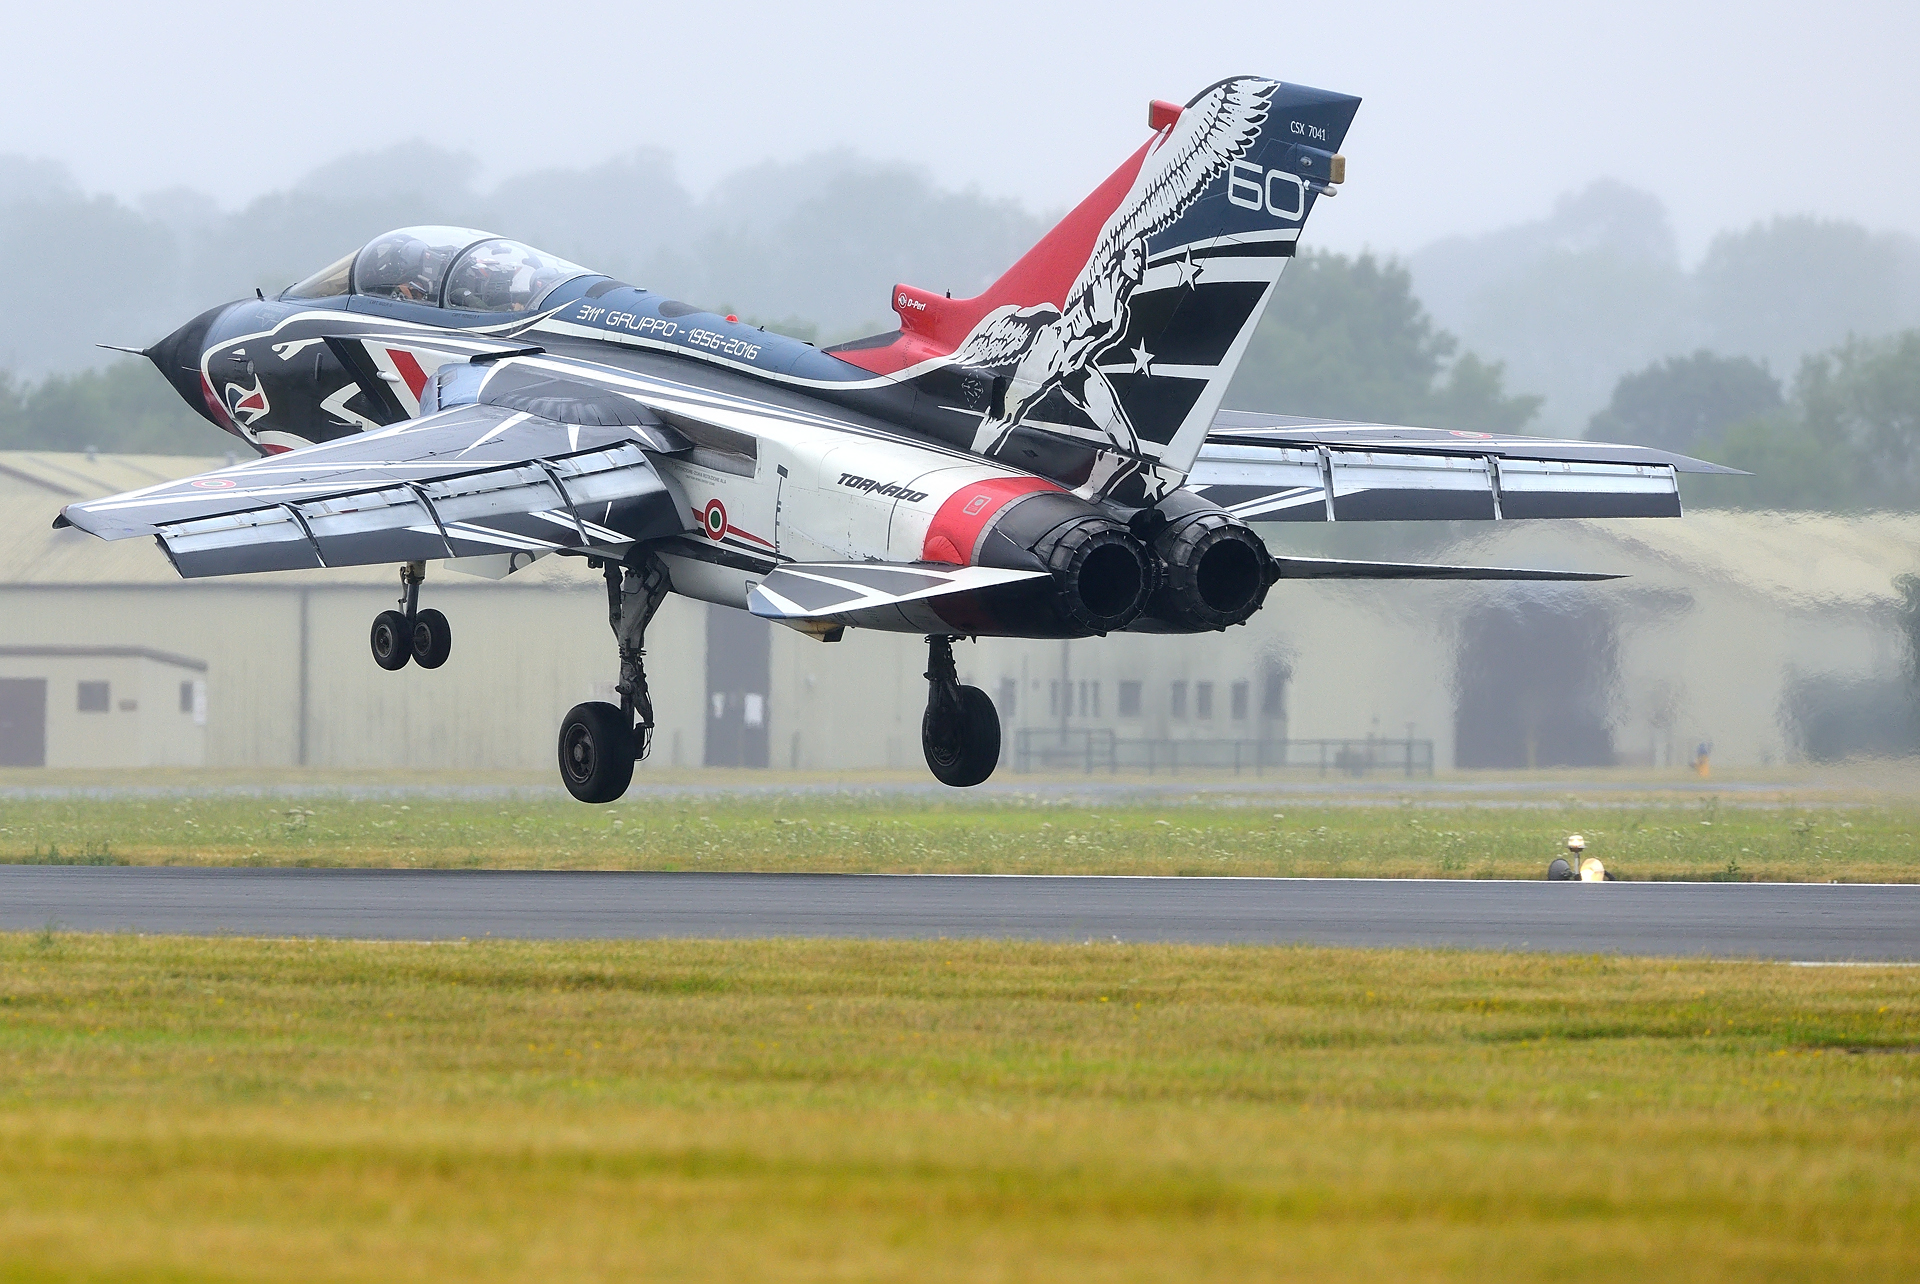Tornado: (50, 75, 1755, 804)
